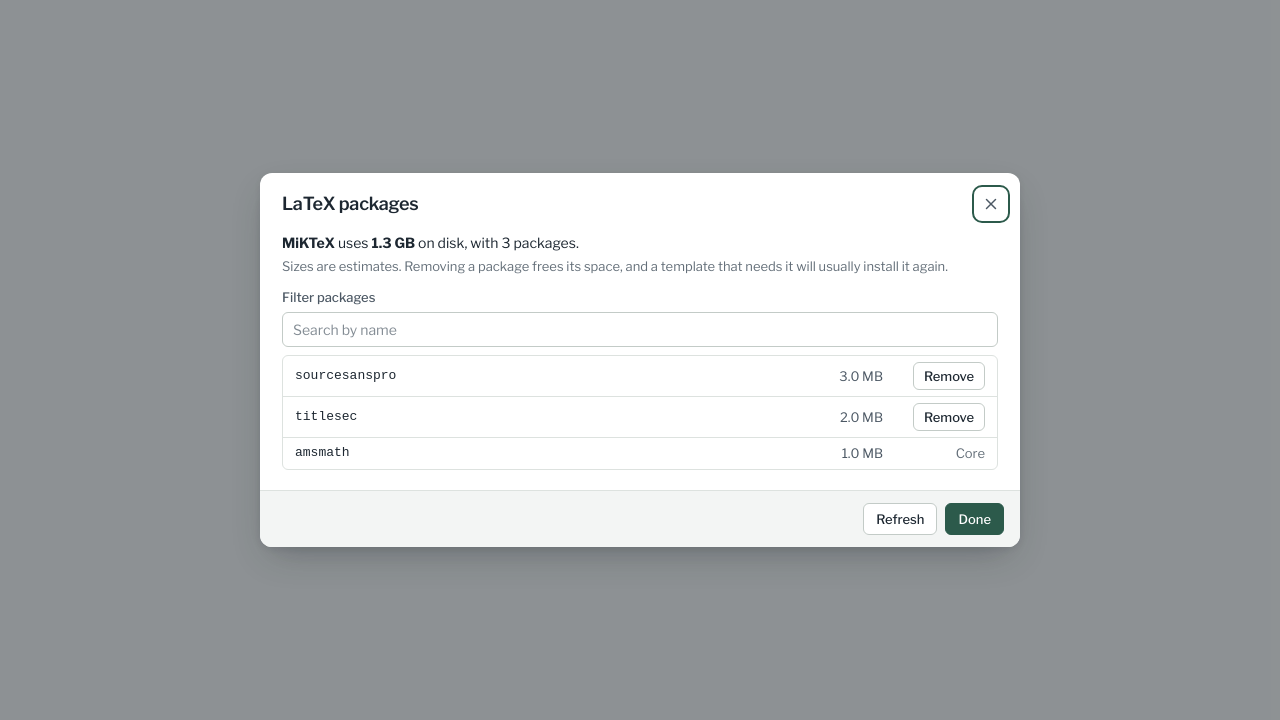
Test: PackageManager component › reports a failed removal without losing the list
Check: the text "titlesec" is shown, box [295,409,357,424]
Click the button with aria-label "Remove titlesec".
click(949, 417)  # box [913,403,985,431]
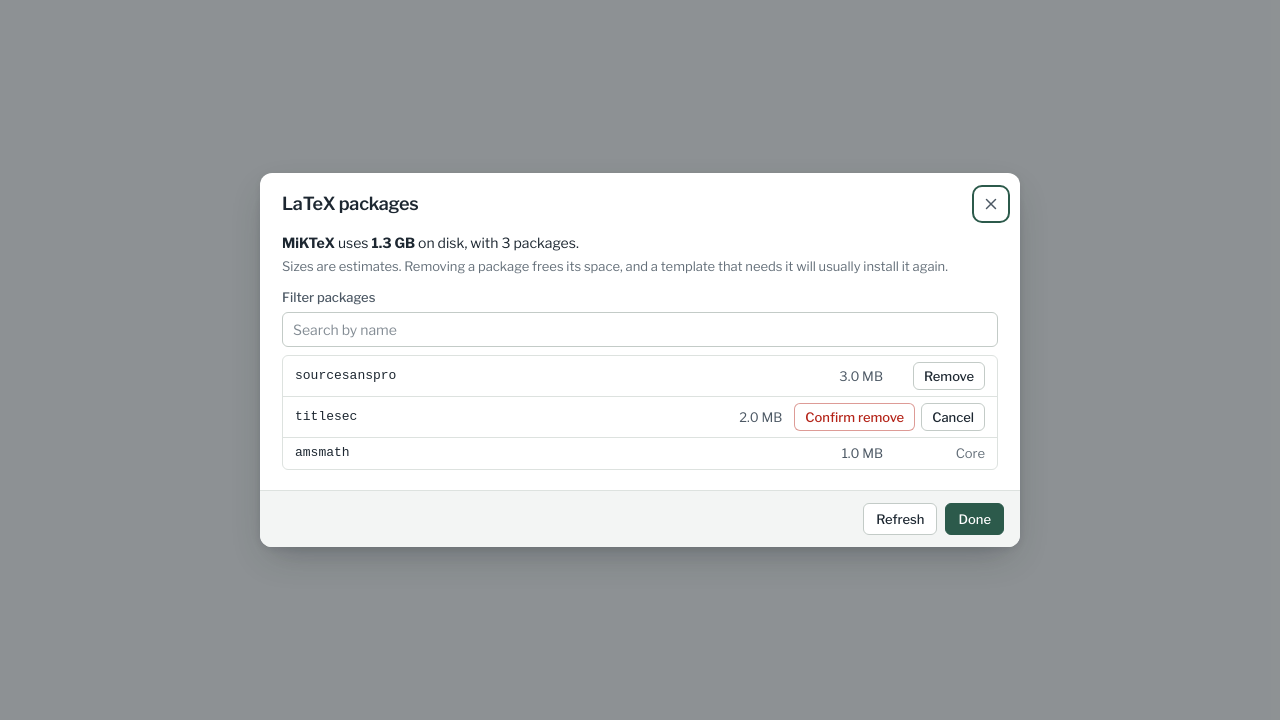
Click the button "Confirm remove".
click(855, 417)  # box [794,403,915,431]
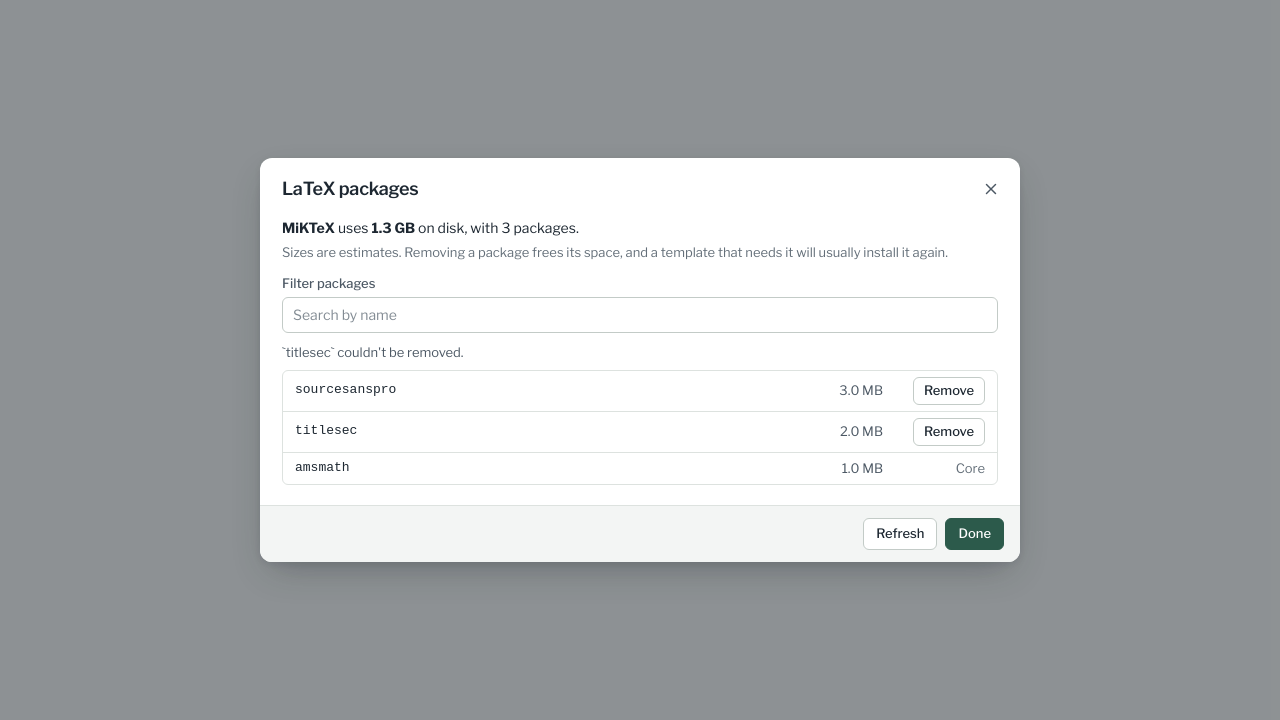
Check: the text "titlesec" is shown, box [295,423,357,438]
Check: the text "`titlesec` couldn't be removed." is shown, box [282,344,464,360]
